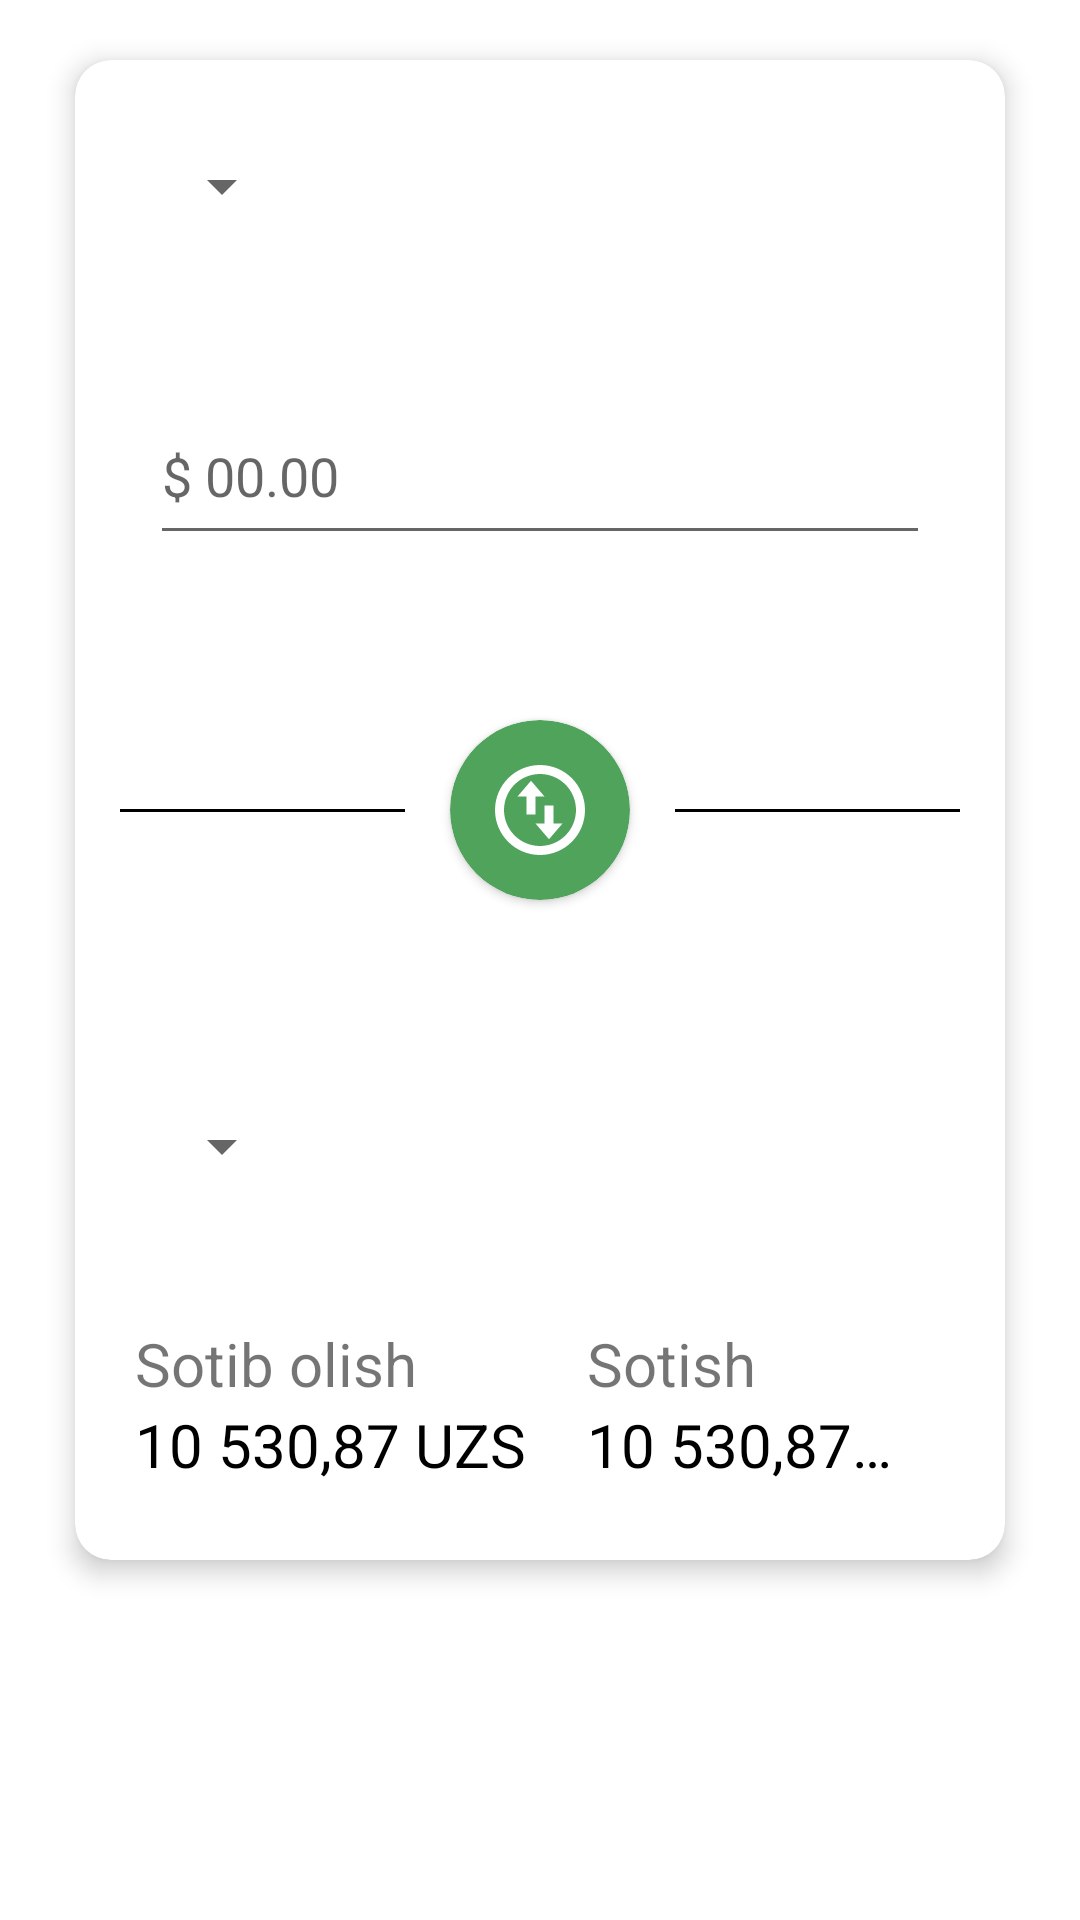

Named icons in this screenshot (1080×1920) and their bounding boxes, box(x1, y1, x2, y2):
valyuta: box(450, 720, 630, 900)
